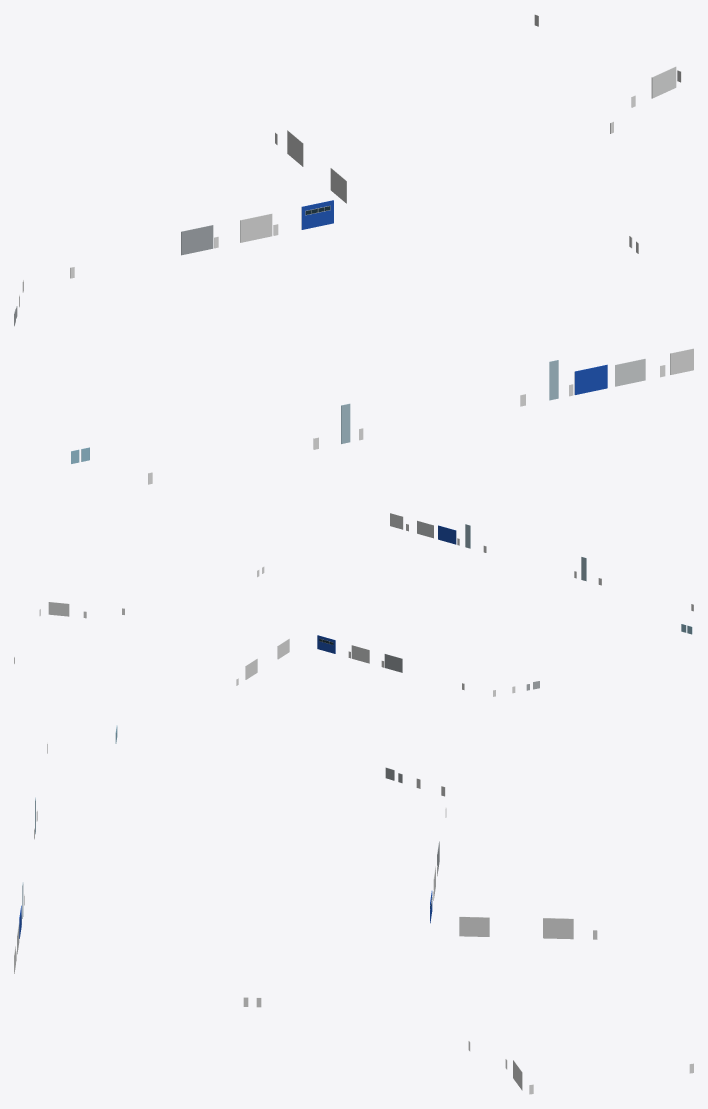
File: doorGroup.glb
The picture shows the model from 3 angles, top to bottom: view 1: azimuth 30°, elevation 25°; view 2: azimuth 150°, elevation 25°; view 3: azimuth 270°, elevation 25°; orthographic projection. The views are drawn at different scales.
Visible parts, largest first — view 1: doorGroup; view 2: doorGroup; view 3: doorGroup.
Part boxes in pixels (box(x1,y1,x2,y2)): doorGroup: box(14, 14, 693, 484); doorGroup: box(14, 513, 693, 696); doorGroup: box(14, 725, 693, 1094).
Size of the model in its own units: 189 by 8.2 by 152.
